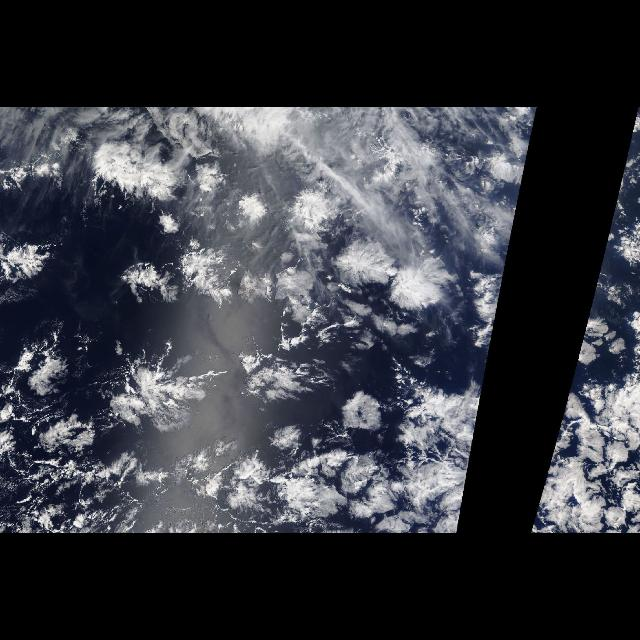Flower: (7, 143, 530, 532), (536, 253, 604, 512)
